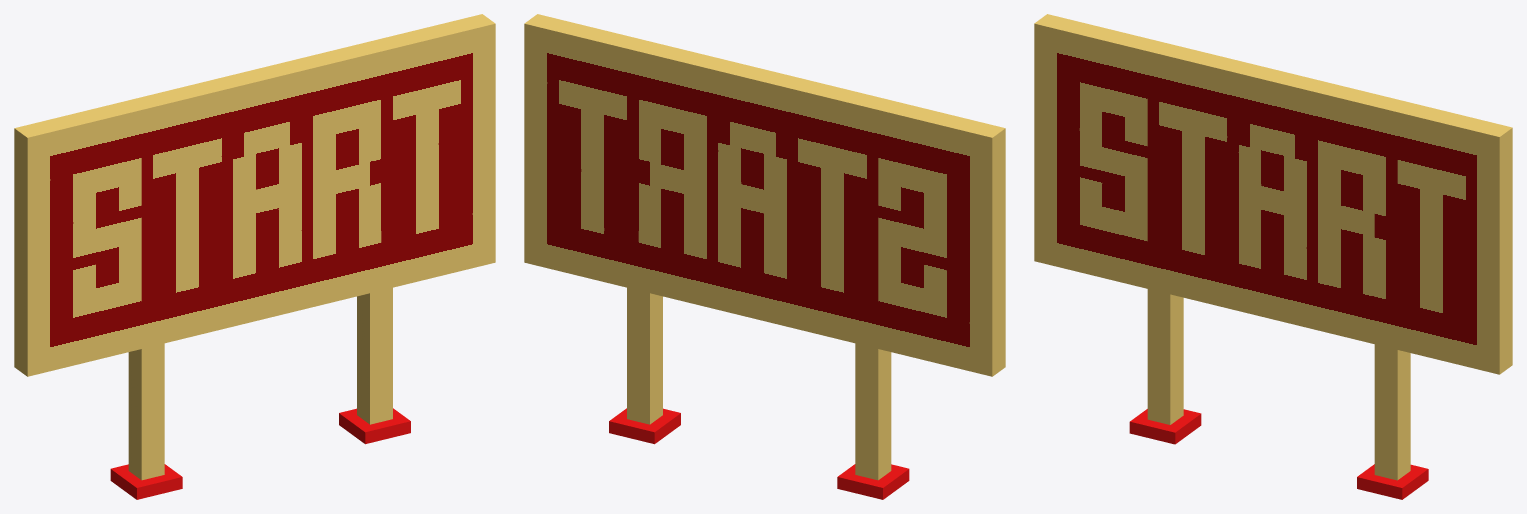
The model's file is Start_btn_02_press.dae.
3 renders of one model, left to right at view 1: azimuth 30°, elevation 25°; view 2: azimuth 150°, elevation 25°; view 3: azimuth 330°, elevation 25°, orthographic.
Visible parts, largest first — view 1: Box_29; view 2: Box_29; view 3: Box_29.
Boxes of the visible parts, x1,y1,x2,y2 form: Box_29: (14,14,495,499); Box_29: (524,14,1005,499); Box_29: (1034,14,1512,499).
Size of the model in its own units: 41 by 32 by 4.
